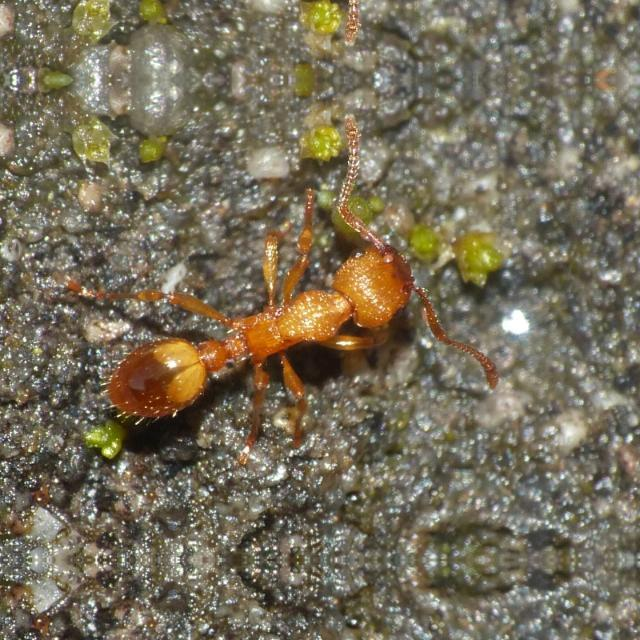Myrmica: (0, 134, 476, 458)
